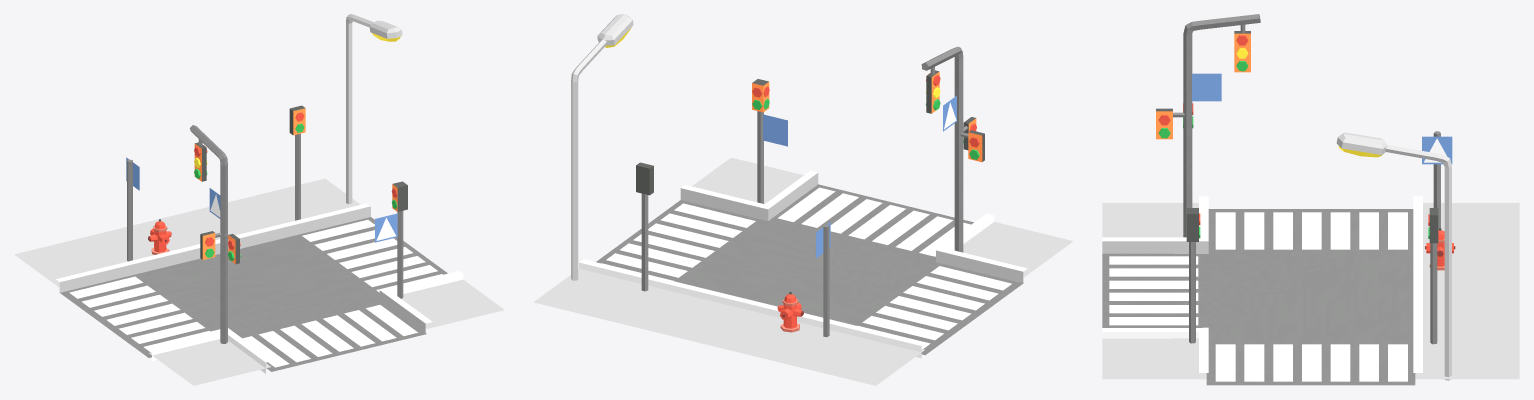
Rendered from SSSS.glb.
The picture shows the model from 3 angles, left to right: view 1: azimuth 30°, elevation 25°; view 2: azimuth 150°, elevation 25°; view 3: azimuth 270°, elevation 25°; orthographic projection. The views are drawn at different scales.
Visible parts, largest first — view 1: road_tile_1x1_5; view 2: road_tile_1x1_5; view 3: road_tile_1x1_5.
Boxes of the visible parts, left/top/right/bottom form: road_tile_1x1_5: left=14, top=14, right=504, bottom=385; road_tile_1x1_5: left=533, top=14, right=1073, bottom=385; road_tile_1x1_5: left=1102, top=14, right=1519, bottom=385.
Size of the model in its own units: 8.02 by 5.25 by 8.
1 material, 1 textured.
